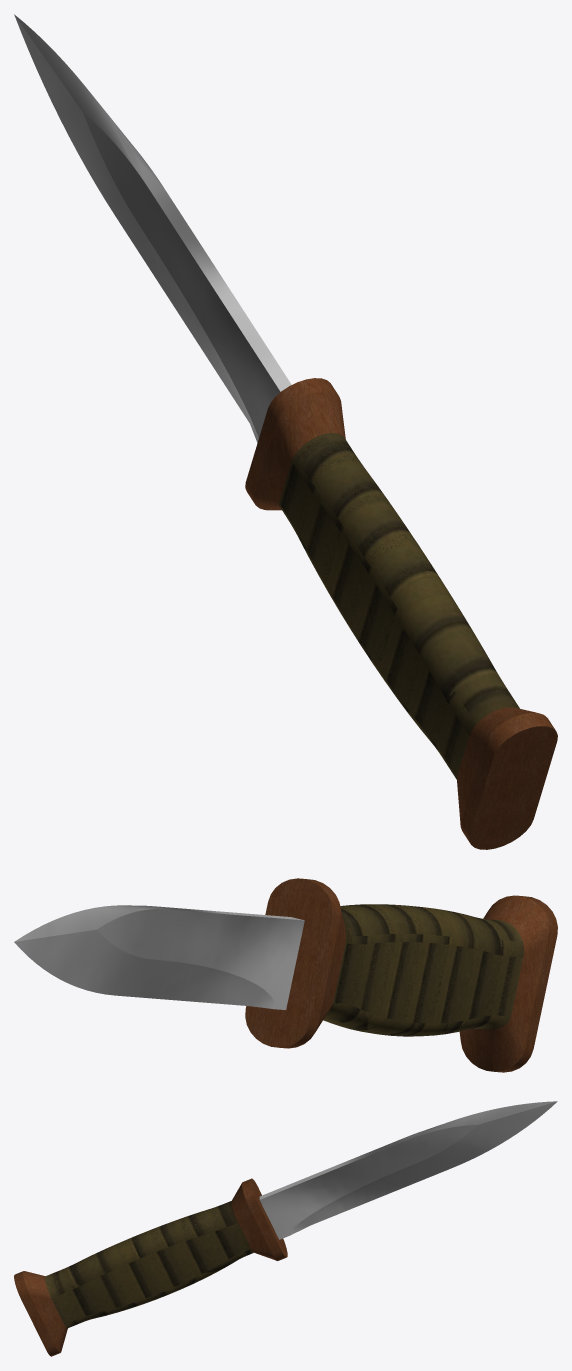
File: shlass 3.dae
3 renders of one model, top to bottom at view 1: azimuth 30°, elevation 25°; view 2: azimuth 150°, elevation 25°; view 3: azimuth 270°, elevation 25°, orthographic. The views are drawn at different scales.
Parts seen in each view (by area): view 1: SketchUp (×4); view 2: SketchUp (×4); view 3: SketchUp (×4).
Part boxes in pixels (box(x1,y1,x2,y2)): SketchUp (×4): box(14, 14, 557, 849); SketchUp (×4): box(14, 878, 557, 1072); SketchUp (×4): box(14, 1101, 557, 1356).
Bounding box in the file's own units: 97.56 × 1372 × 704.
Materials: 3 (3 with a texture image).
